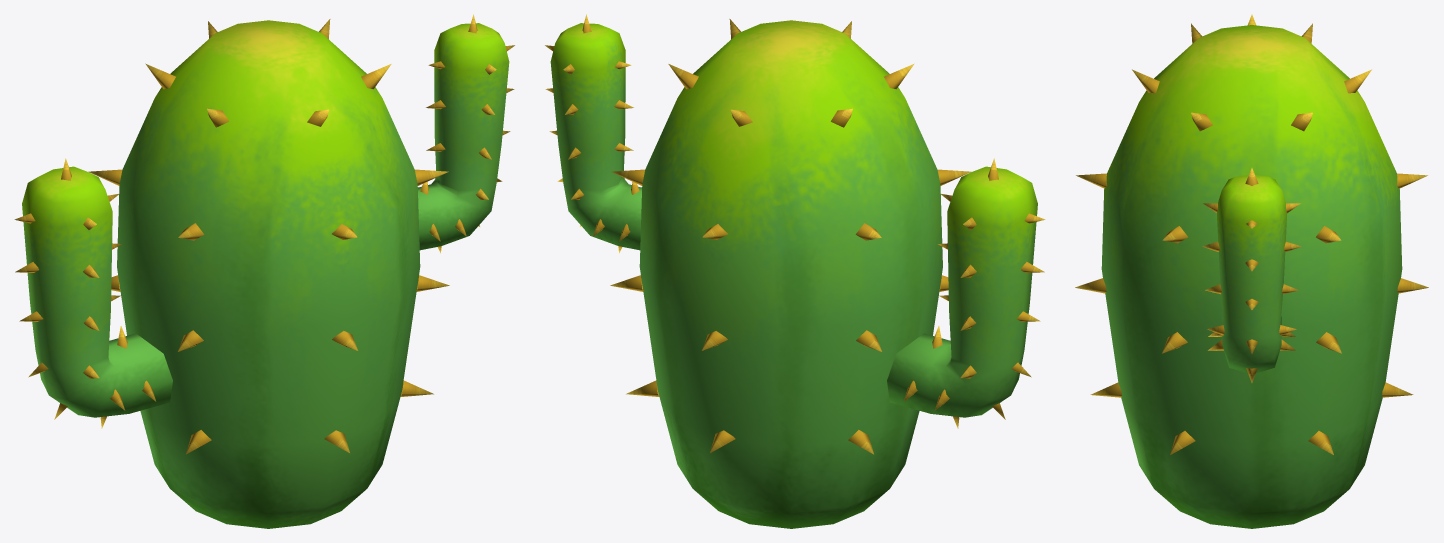
File: cactus.fbx
3 renders of one model, left to right at view 1: azimuth 30°, elevation 25°; view 2: azimuth 150°, elevation 25°; view 3: azimuth 270°, elevation 25°, orthographic.
Visible parts, largest first — view 1: cactus.body, cactus.hand.001, cactus.hand; view 2: cactus.body, cactus.hand.001, cactus.hand; view 3: cactus.body, cactus.hand.
Boxes of the visible parts, x1,y1,x2,y2 form: cactus.body: (88, 19, 449, 528); cactus.hand.001: (14, 158, 172, 428); cactus.hand: (418, 14, 514, 253); cactus.body: (610, 19, 971, 528); cactus.hand.001: (887, 158, 1045, 428); cactus.hand: (545, 14, 641, 253); cactus.body: (1075, 23, 1428, 528); cactus.hand: (1202, 168, 1301, 382).
Bounding box in the file's own units: 220 × 196 × 136.
